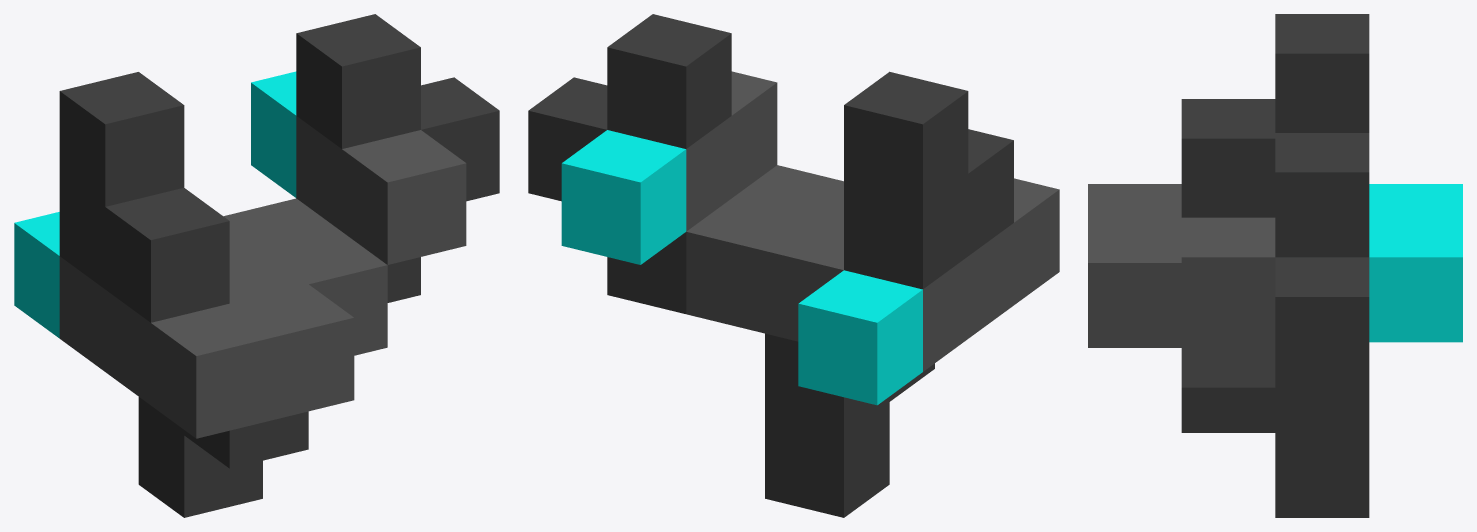
Rendered from Extra-3-MicroRecon_Wing2_L.obj.
3 renders of one model, left to right at view 1: azimuth 30°, elevation 25°; view 2: azimuth 150°, elevation 25°; view 3: azimuth 270°, elevation 25°, orthographic. The views are drawn at different scales.
Visible parts, largest first — view 1: MicroRecon_Wing2_L; view 2: MicroRecon_Wing2_L; view 3: MicroRecon_Wing2_L.
Boxes of the visible parts, x1,y1,x2,y2 form: MicroRecon_Wing2_L: (14, 14, 499, 517); MicroRecon_Wing2_L: (528, 14, 1059, 517); MicroRecon_Wing2_L: (1088, 14, 1462, 517).
Bounding box in the file's own units: 0.5 × 0.5 × 0.4.
Materials: 1 (1 with a texture image).
